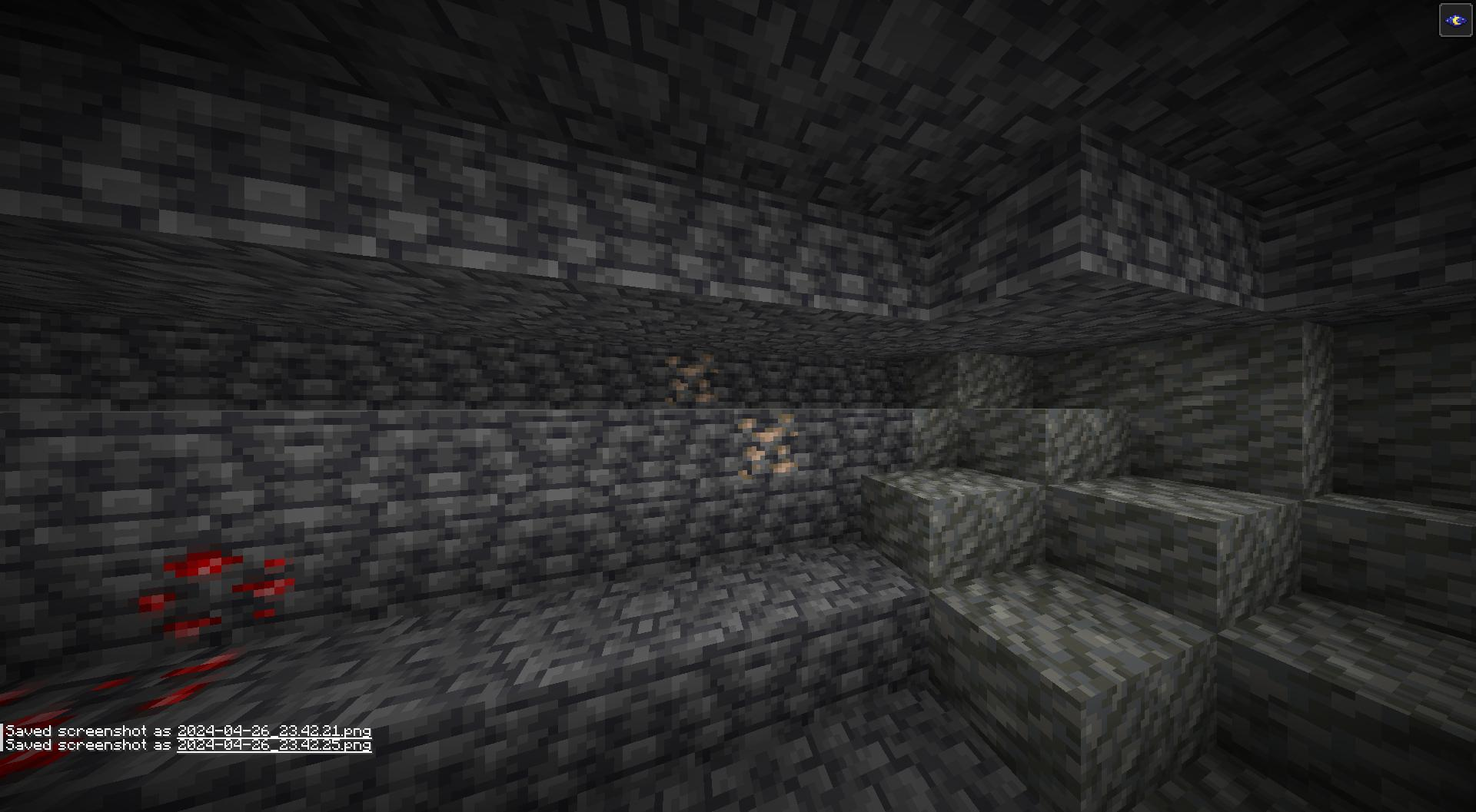iron ore: (737, 406, 800, 478), (662, 349, 720, 413)
redstone ore: (0, 652, 232, 770), (133, 543, 298, 635)
